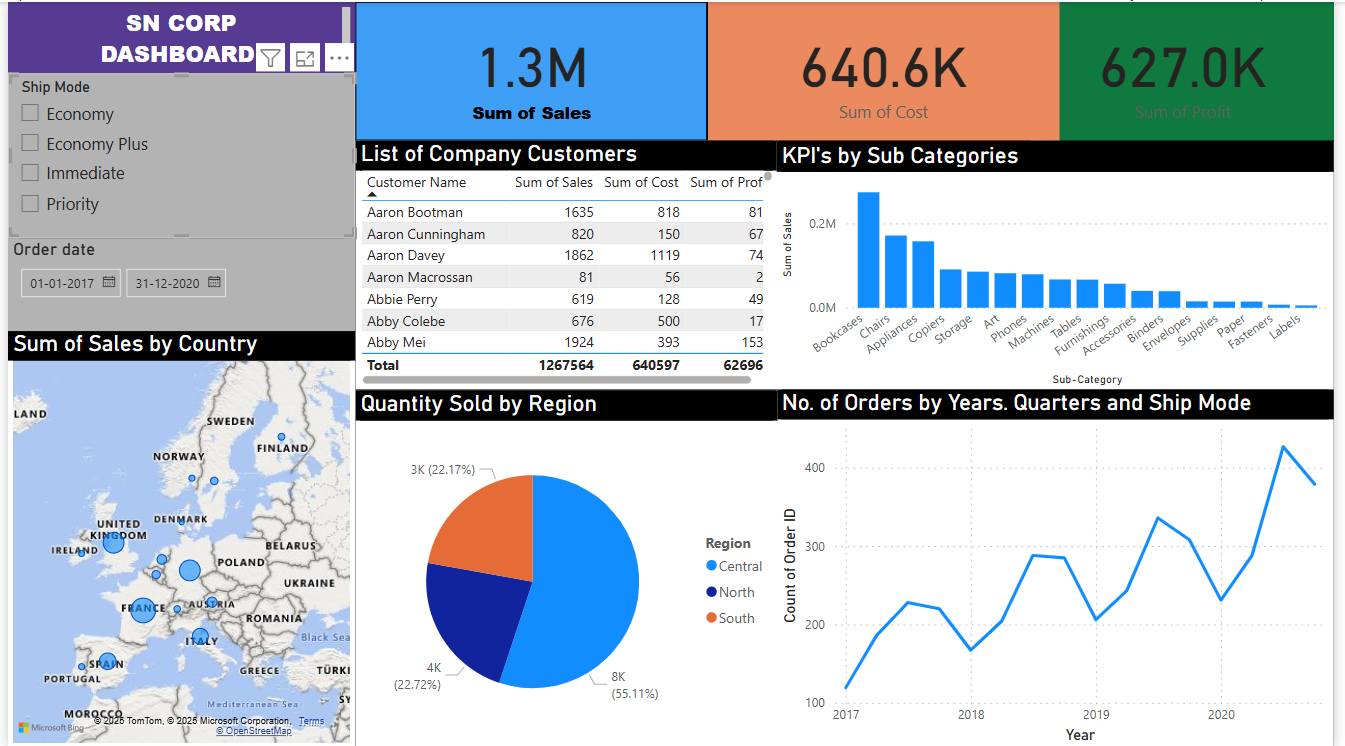

What the dashboard file says about the page in this screenshot:
{"tool":"powerbi","page":{"name":"Page 1","canvas":[1280,720],"ordinal":0},"visuals":[{"type":"card","fields":{"Values":["List of Orders.Sales"]},"box":[335.4,0,339,133.9],"z":0},{"type":"card","fields":{"Values":["List of Orders.Profit"]},"box":[986.9,0,294,133.9],"z":1000},{"type":"card","fields":{"Values":["List of Orders.Cost"]},"box":[675.6,0,339,133.9],"z":2000},{"type":"tableEx","title":"List of Company Customers","fields":{"Values":["List of Orders.Customer Name","List of Orders.Sales","List of Orders.Cost","List of Orders.Profit"]},"box":[335,133.8,407.5,240],"z":3000},{"type":"actionButton","box":[0,0,100,40],"z":4000},{"type":"clusteredColumnChart","title":"KPI''s by Sub Categories","fields":{"Category":["List of Orders.Sub-Category"],"Y":["List of Orders.Sales"]},"box":[742.5,135,537.5,240],"z":5000},{"type":"lineChart","title":"No. of Orders by Years. Quarters and Ship Mode","fields":{"Y":["List of Orders.Order ID"],"Category":["List of Orders.Order Date.Variation.Date Hierarchy.Year","List of Orders.Order Date.Variation.Date Hierarchy.Quarter"]},"box":[742.5,373.8,537.5,346.2],"z":6000},{"type":"pieChart","title":"Quantity Sold by Region","fields":{"Y":["List of Orders.Quantity"],"Category":["List of Orders.Region"]},"box":[335,375,407.5,345],"z":7000},{"type":"map","fields":{"Size":["List of Orders.Sales"],"Category":["List of Orders.Country"]},"box":[0,317.3,335.4,403],"z":8000},{"type":"textbox","box":[0,0,335.4,68.8],"z":9000},{"type":"slicer","fields":{"Values":["List of Orders.Ship Mode"]},"box":[0,68.8,335.4,159.3],"z":10000},{"type":"slicer","title":"Order date","fields":{"Values":["List of Orders.Order Date"]},"box":[0,228,335.4,89.3],"z":11000}]}

Visuals, with their boxes in screenshot pixels (x1, y1, x2, y2), scaled from the page's 1280x720 canvas onto the 1345x746 screenshot:
card - List of Orders.Sales: {"x1": 352, "y1": 0, "x2": 709, "y2": 139}
card - List of Orders.Profit: {"x1": 1037, "y1": 0, "x2": 1344, "y2": 139}
card - List of Orders.Cost: {"x1": 710, "y1": 0, "x2": 1066, "y2": 139}
"List of Company Customers" tableEx: {"x1": 352, "y1": 139, "x2": 780, "y2": 387}
actionButton: {"x1": 0, "y1": 0, "x2": 105, "y2": 41}
"KPI''s by Sub Categories" clusteredColumnChart: {"x1": 780, "y1": 140, "x2": 1344, "y2": 389}
"No. of Orders by Years. Quarters and Ship Mode" lineChart: {"x1": 780, "y1": 387, "x2": 1344, "y2": 745}
"Quantity Sold by Region" pieChart: {"x1": 352, "y1": 389, "x2": 780, "y2": 745}
map - List of Orders.Sales x List of Orders.Country: {"x1": 0, "y1": 329, "x2": 352, "y2": 745}
textbox: {"x1": 0, "y1": 0, "x2": 352, "y2": 71}
slicer - List of Orders.Ship Mode: {"x1": 0, "y1": 71, "x2": 352, "y2": 236}
"Order date" slicer: {"x1": 0, "y1": 236, "x2": 352, "y2": 329}
